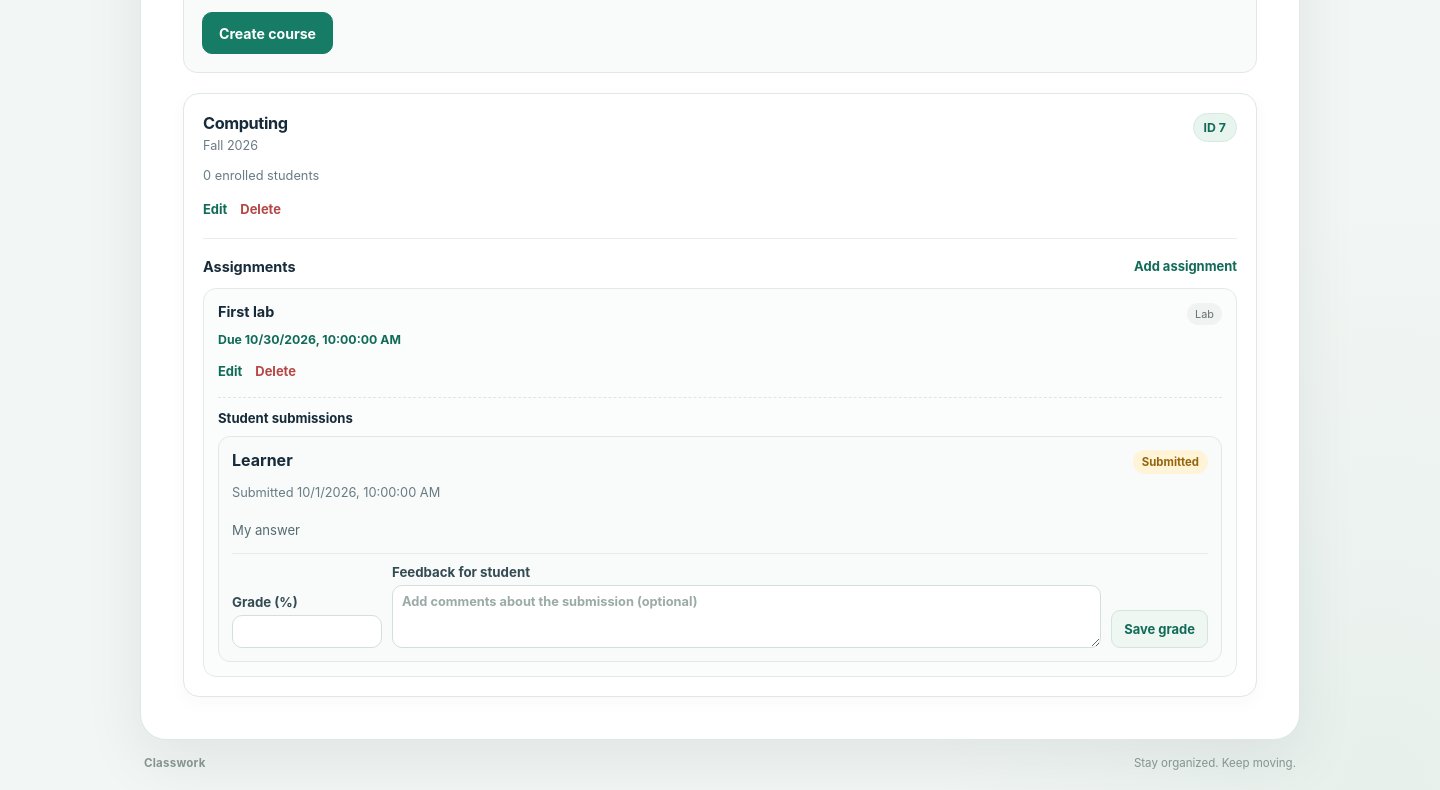
Test case: an instructor can grade submitted student work
The image size is (1440, 790).
(page scrolled)
Step 1. Type "88" into the number field labelled "Grade (%)" → (307,631), box 232,615 -> 382,648
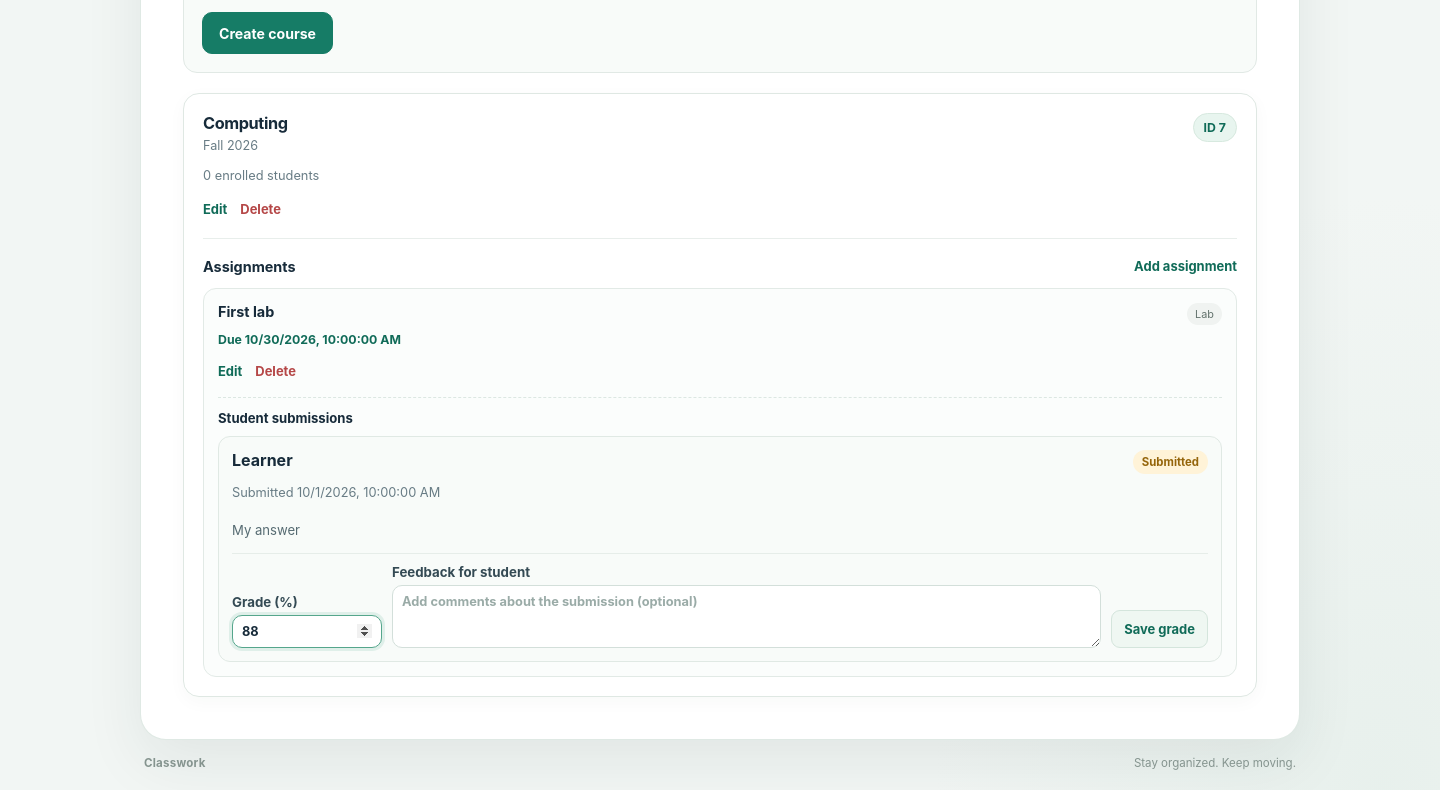
Step 2. Type "Clear reasoning." into the text box labelled "Feedback for student" → (747,616), box 392,585 -> 1101,648
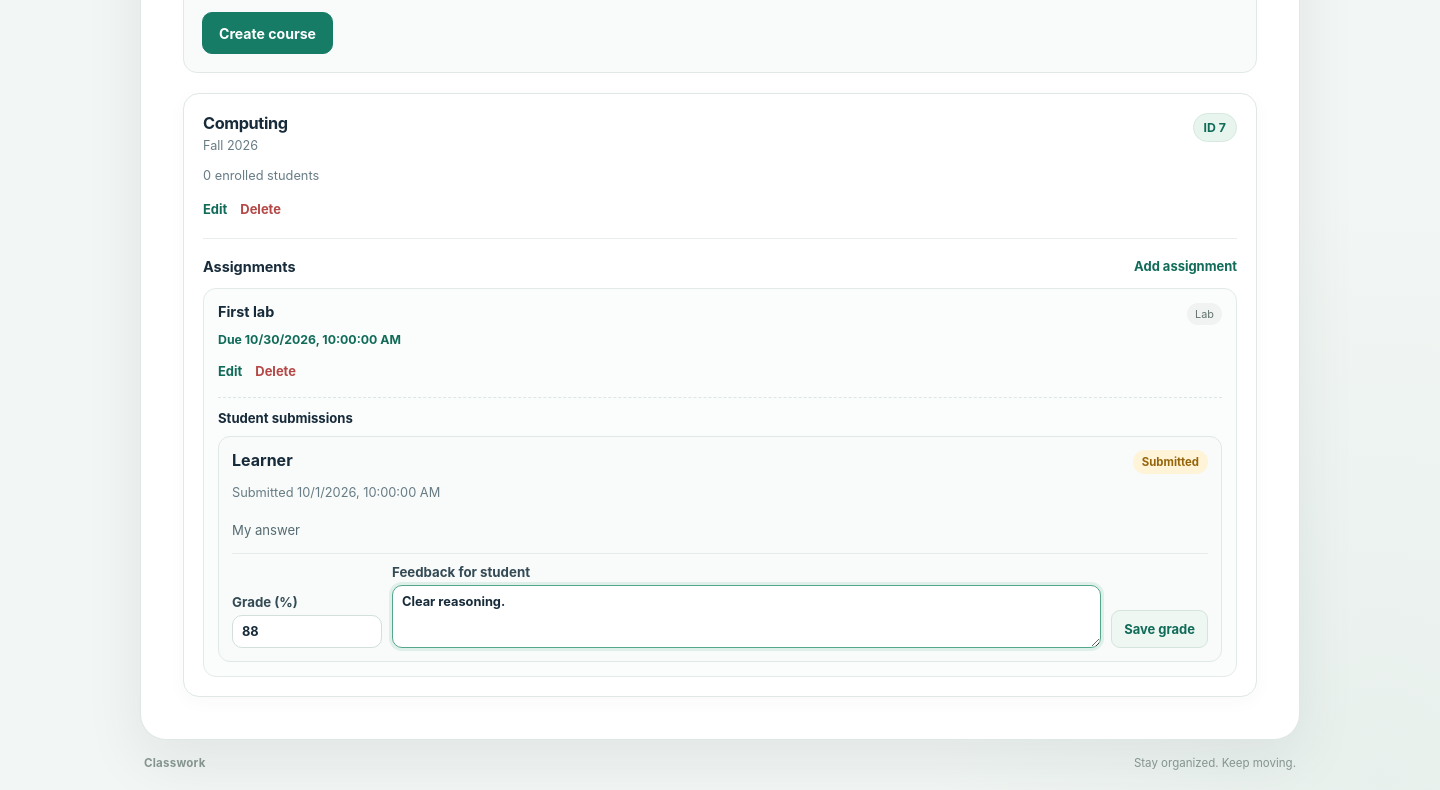
Step 3. Click the button "Save grade" → (1160,629), box 1111,610 -> 1208,648
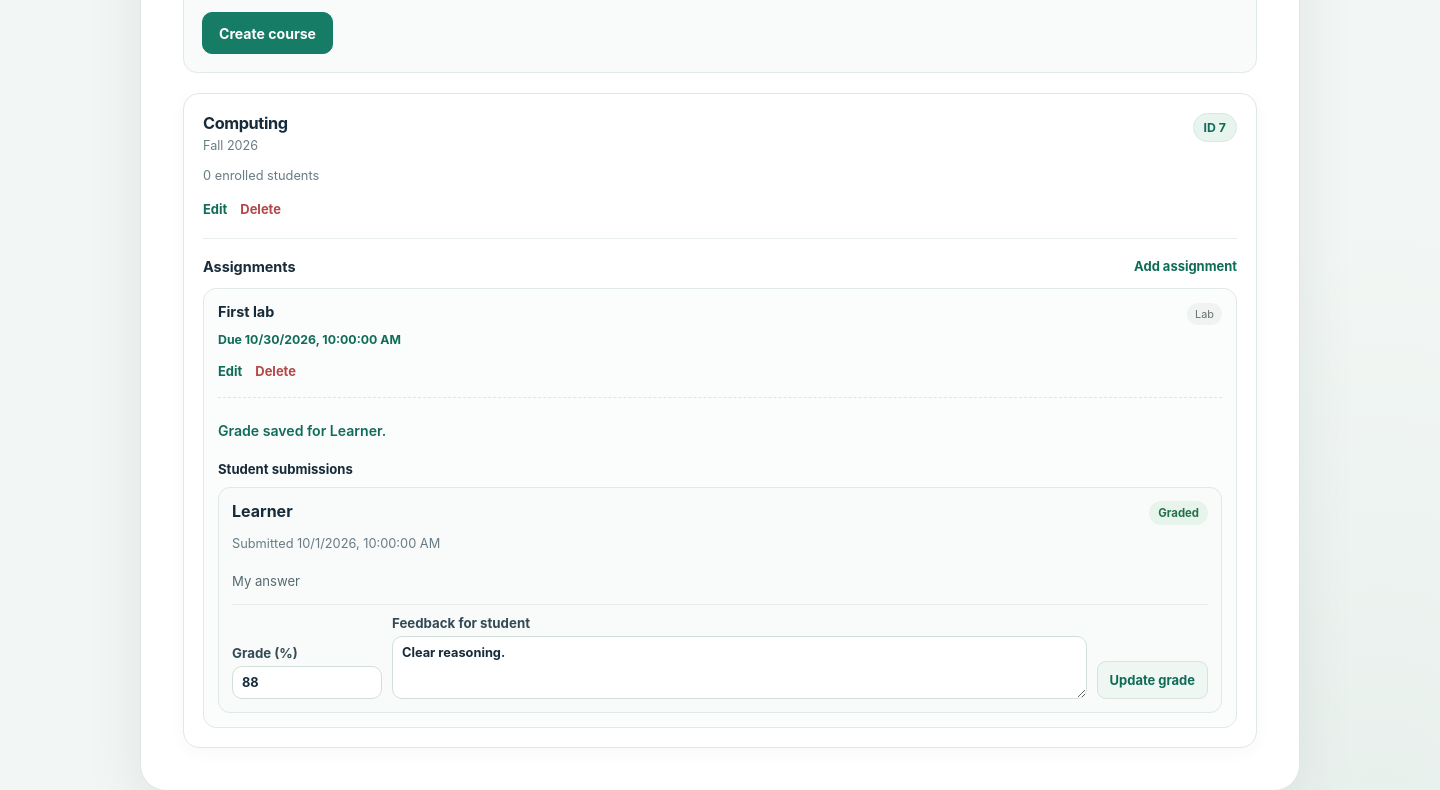
Expected: the text "Grade saved for Learner." is shown, 218,422 -> 386,439
